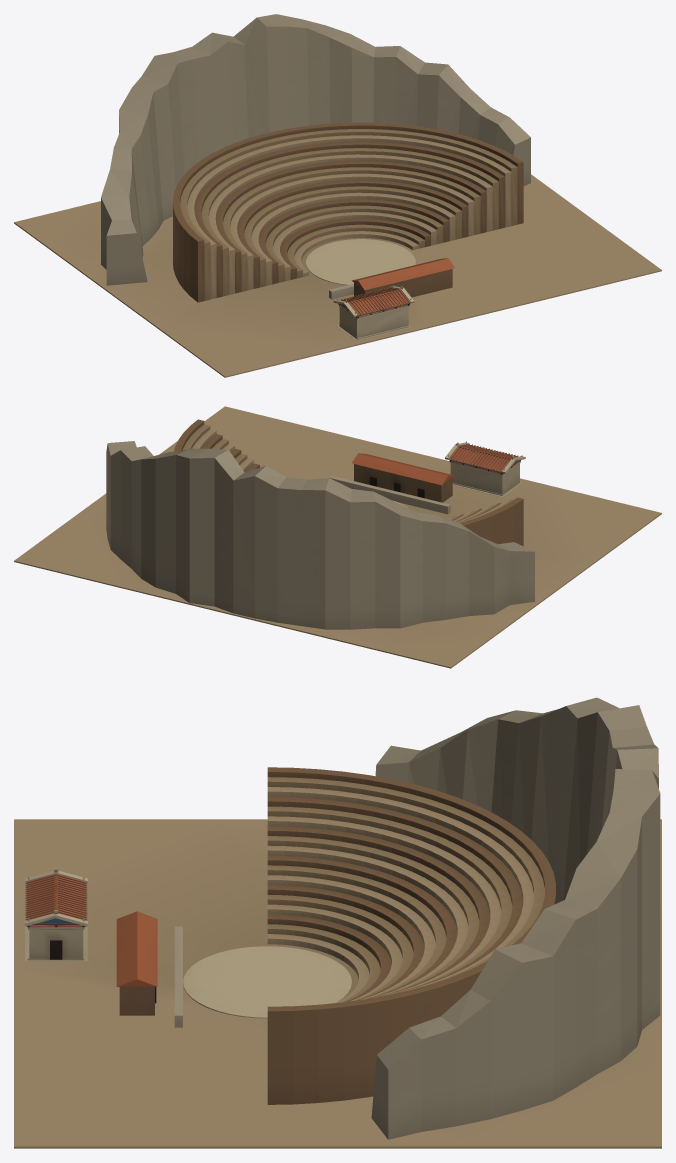
File: theatre-dionysus-430.glb
3 renders of one model, top to bottom at view 1: azimuth 30°, elevation 25°; view 2: azimuth 150°, elevation 25°; view 3: azimuth 270°, elevation 25°, orthographic. The views are drawn at different scales.
Visible parts, largest first — view 1: p0_cavea, p1_seats, p2_stage; view 2: p0_cavea, p2_stage, p1_seats; view 3: p0_cavea, p1_seats, p2_stage.
Part boxes in pixels (x1,y1,x2,y2): p0_cavea: (14, 14, 661, 377); p1_seats: (173, 122, 523, 302); p2_stage: (333, 258, 454, 340); p0_cavea: (14, 406, 661, 668); p2_stage: (352, 441, 525, 502); p1_seats: (174, 419, 523, 546); p0_cavea: (14, 697, 661, 1148); p1_seats: (267, 767, 555, 1104); p2_stage: (24, 868, 157, 1015).
Bounding box in the file's own units: 110 × 36.1 × 92.
